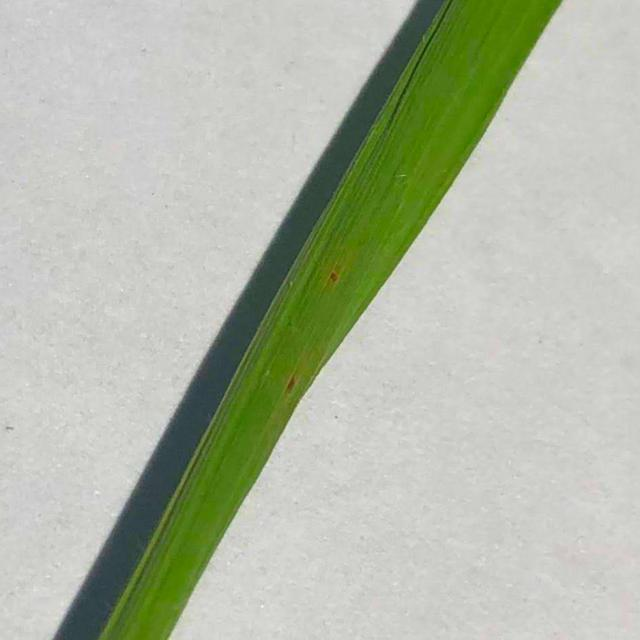brownspots: (320, 257, 348, 291), (283, 368, 304, 400)
